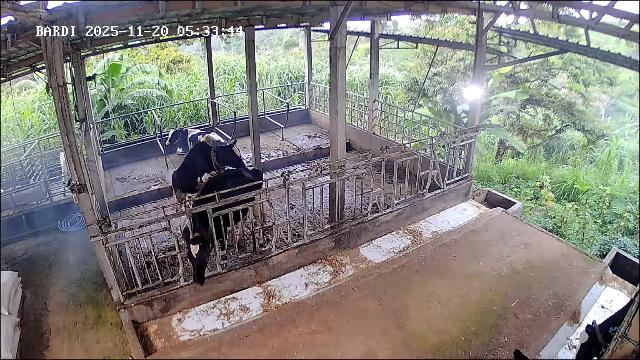mounting: (172, 137, 243, 219)
